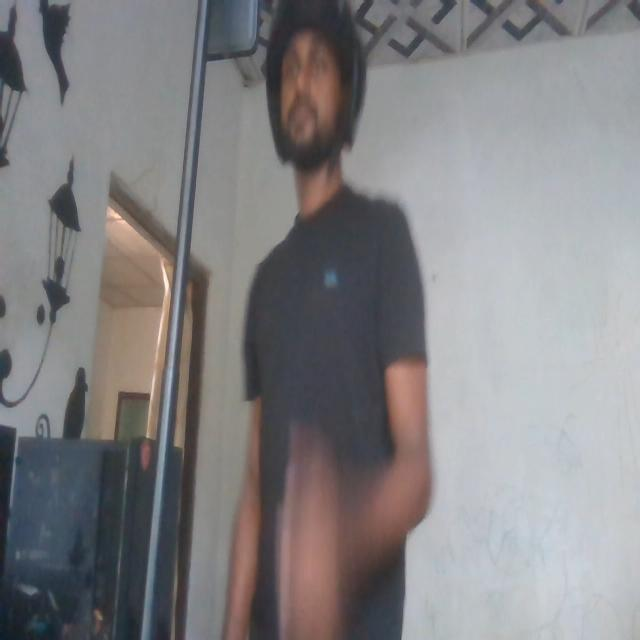Helmet_Wearer: (260, 0, 370, 222)
Person: (237, 0, 456, 640)
